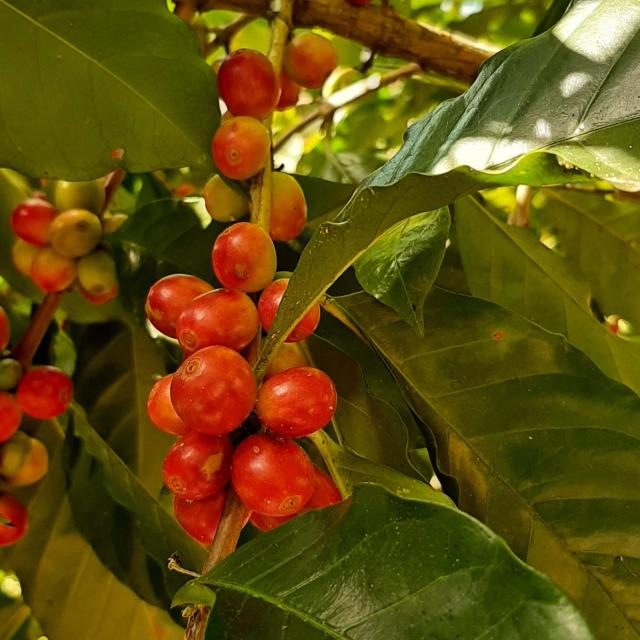green: (48, 209, 102, 258), (202, 174, 248, 222), (53, 179, 105, 215), (76, 249, 117, 294)
red: (170, 346, 257, 436), (231, 434, 316, 517), (255, 367, 337, 439), (162, 432, 233, 501), (217, 49, 281, 120), (15, 366, 72, 420), (173, 490, 226, 546), (9, 198, 56, 246)
yellow: (175, 289, 259, 355), (212, 222, 277, 293), (145, 274, 213, 338), (212, 116, 270, 179), (283, 32, 338, 88), (269, 171, 307, 241), (29, 246, 76, 292), (257, 278, 289, 332), (285, 303, 320, 343)
